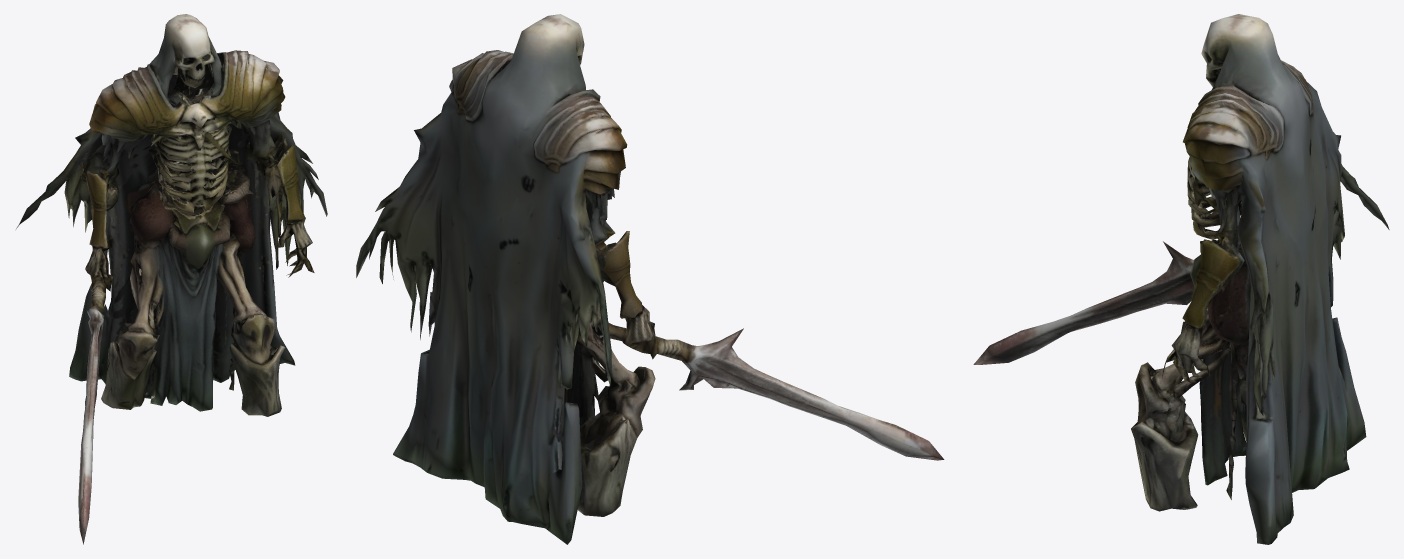
File: Skeletal Champ.glb
3 renders of one model, left to right at view 1: azimuth 30°, elevation 25°; view 2: azimuth 150°, elevation 25°; view 3: azimuth 270°, elevation 25°, orthographic. The views are drawn at different scales.
Parts seen in each view (by area): view 1: Mesh1.0; view 2: Mesh1.0; view 3: Mesh1.0.
Boxes of the visible parts, box(x1,y1,x2,y2) form: Mesh1.0: box(16, 14, 327, 544); Mesh1.0: box(356, 14, 944, 544); Mesh1.0: box(973, 14, 1389, 544).
Bounding box in the file's own units: 1.83 × 1.88 × 1.5.
Materials: 1 (1 with a texture image).
